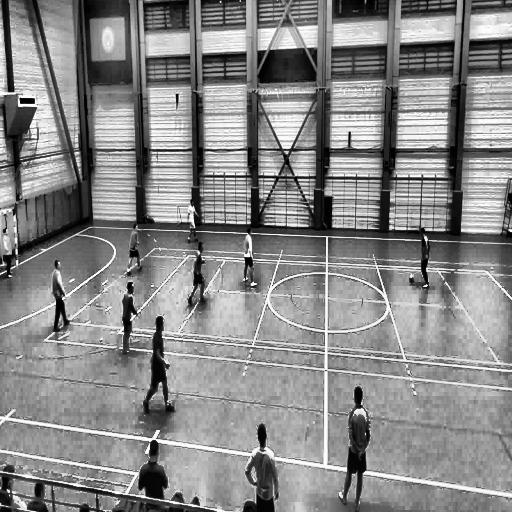ball: (409, 274, 414, 281)
player: (336, 387, 370, 511), (142, 314, 174, 412), (246, 423, 279, 512), (51, 260, 69, 334), (188, 241, 208, 305), (122, 280, 139, 353), (242, 225, 257, 286), (128, 223, 142, 276), (419, 226, 429, 288), (2, 227, 14, 276), (186, 200, 198, 242)
